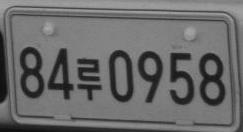0: (108, 48, 135, 103)
4: (47, 47, 74, 99)
5: (168, 51, 195, 106)
8: (198, 52, 226, 106), (18, 45, 45, 99)
9: (136, 49, 163, 103)
루: (76, 57, 101, 100)
